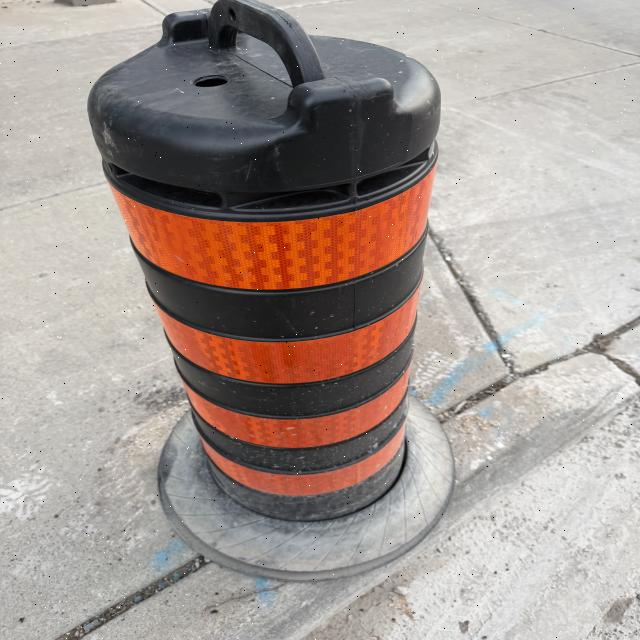Teraffic Barrel: (88, 0, 439, 522)
